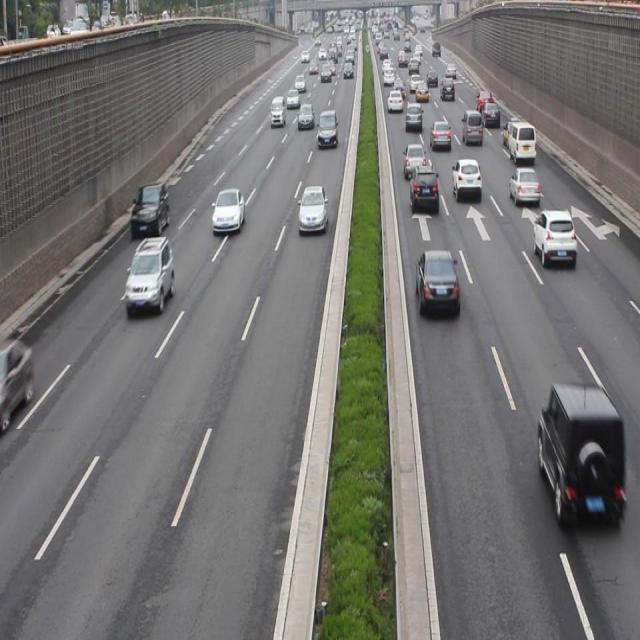car: (537, 382, 624, 522), (124, 235, 174, 312), (415, 247, 459, 317), (1, 339, 33, 423), (532, 208, 576, 268), (130, 182, 168, 240), (211, 186, 245, 235), (410, 162, 439, 215), (296, 184, 326, 234), (450, 158, 480, 202), (508, 165, 540, 206), (403, 142, 426, 180), (428, 119, 451, 152), (501, 117, 523, 146), (404, 100, 423, 132), (482, 101, 499, 129), (297, 102, 313, 130)
truck: (507, 121, 535, 161), (317, 108, 337, 150), (461, 109, 482, 147), (268, 96, 285, 128)
